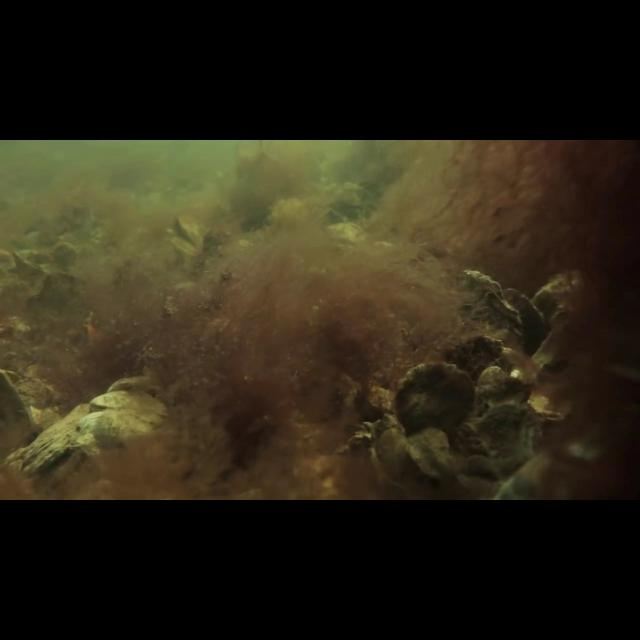Oyster-Closed: (392, 358, 481, 451), (378, 426, 471, 493), (443, 327, 517, 379), (503, 283, 552, 352), (469, 290, 527, 343), (457, 262, 511, 304), (175, 212, 209, 256), (165, 233, 199, 261)
